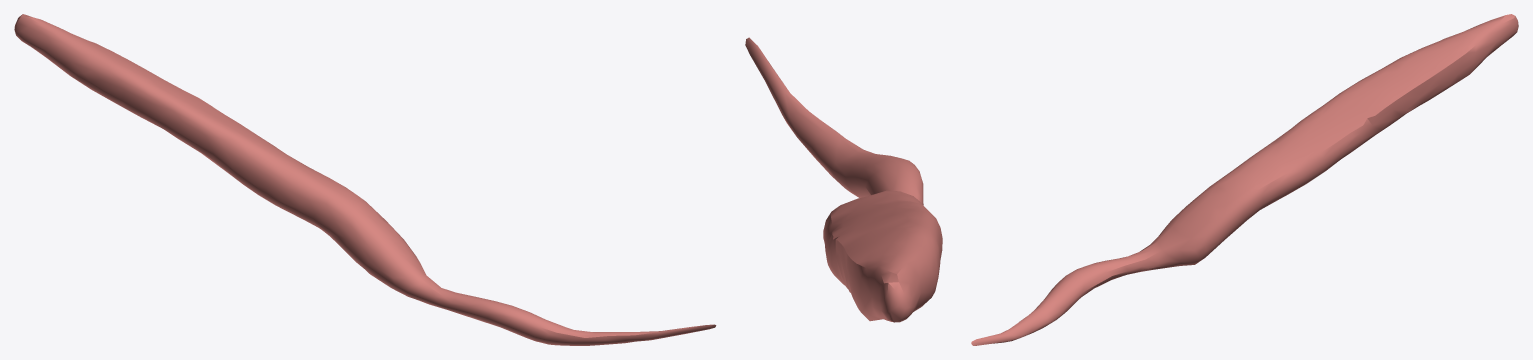
Rendered from fma37742_mm1749.glb.
3 views of the same model, side by side, from view 1: azimuth 30°, elevation 25°; view 2: azimuth 150°, elevation 25°; view 3: azimuth 270°, elevation 25° (orthographic). The views are drawn at different scales.
Visible parts, largest first — view 1: FMA37742_MM1749; view 2: FMA37742_MM1749; view 3: FMA37742_MM1749.
Part boxes in pixels (<box>): FMA37742_MM1749: <box>14,14,716,345</box>; FMA37742_MM1749: <box>745,37,942,322</box>; FMA37742_MM1749: <box>971,14,1518,345</box>.
Size of the model in its own units: 0.0333 by 0.0168 by 0.045.
